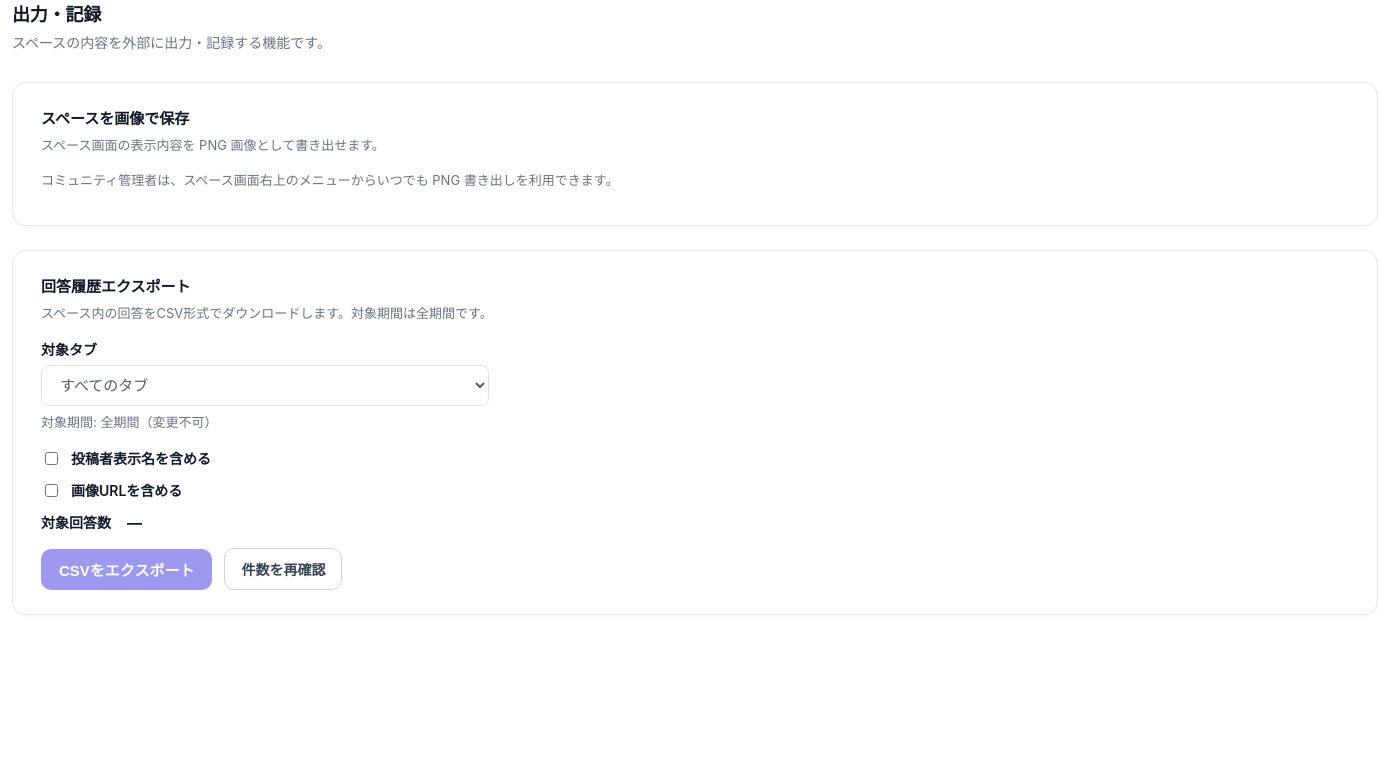
Test: ExportRecordTab › loads count only when manually requested
This screenshot has width=1378, height=768.
Click the button "件数を再確認" at (283, 569), box [224, 548, 342, 590]
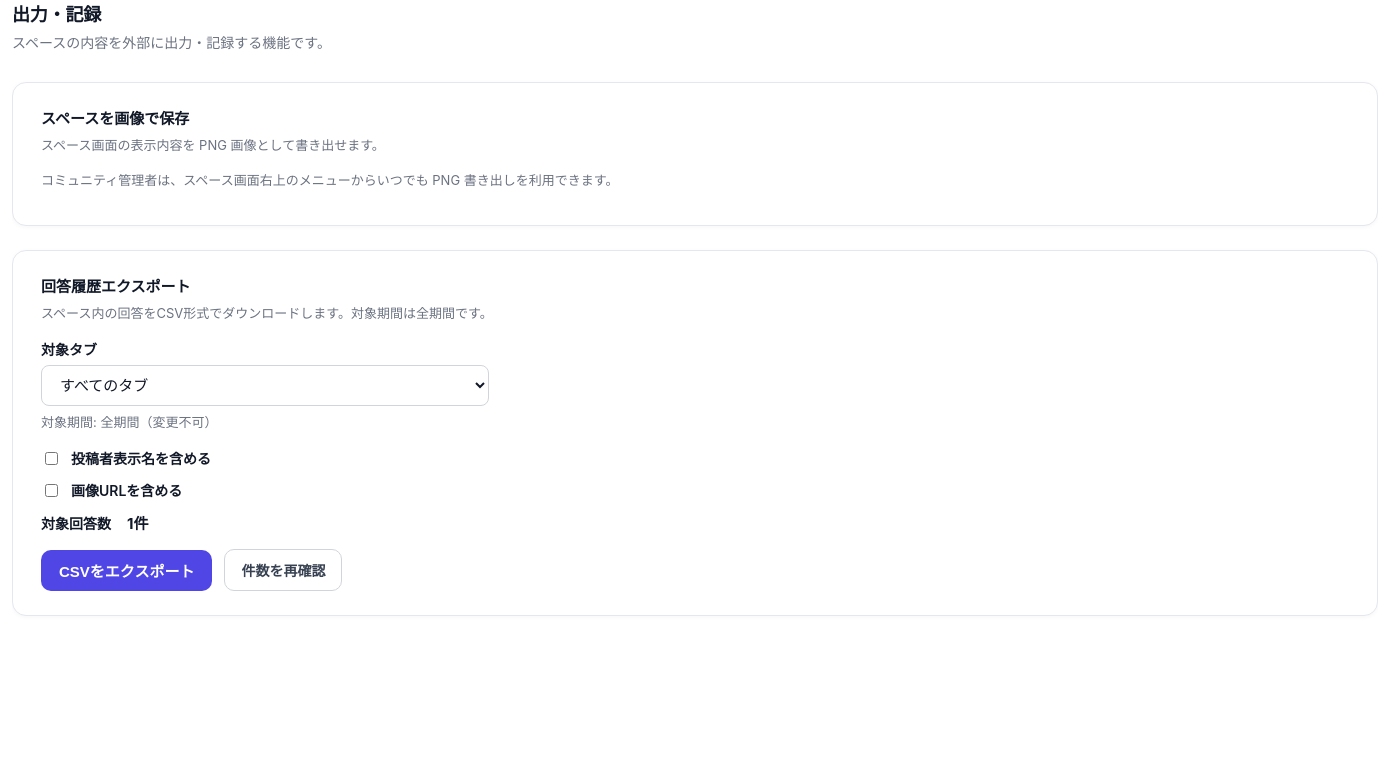
Result: the text "1件" is shown at [127, 512, 148, 533]
